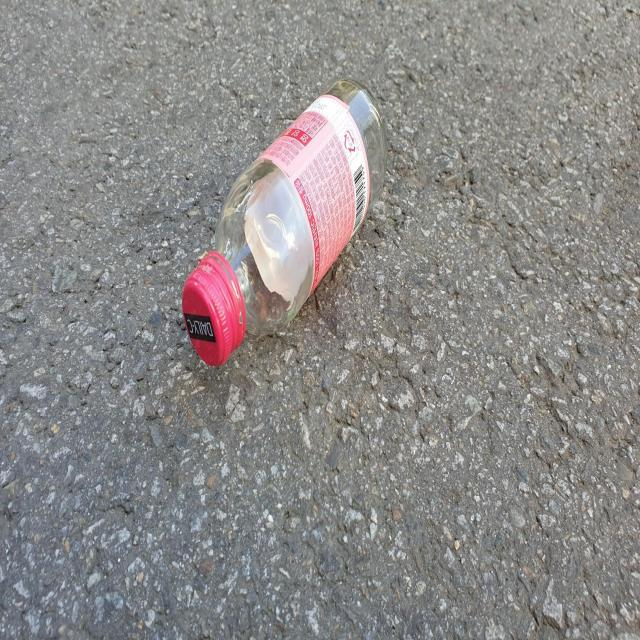glass: (182, 78, 387, 365)
